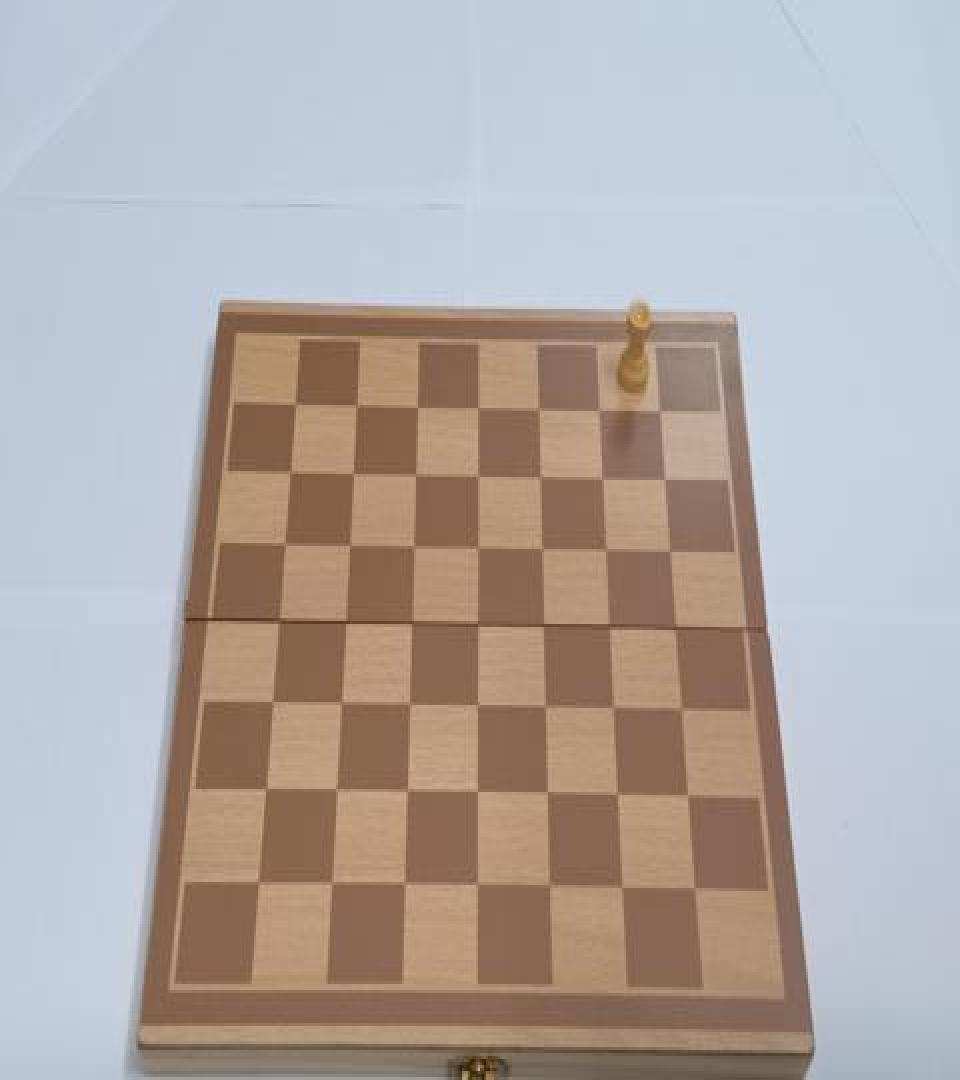xcorner: (407, 460, 425, 488), (530, 394, 548, 422), (537, 694, 555, 722), (287, 390, 305, 417), (281, 459, 299, 486), (276, 531, 294, 558), (270, 609, 288, 636), (264, 690, 282, 717), (257, 777, 275, 804), (250, 870, 268, 897), (344, 459, 362, 486), (340, 532, 358, 559), (336, 609, 354, 636), (328, 778, 346, 805), (405, 534, 423, 561), (403, 610, 421, 637), (401, 693, 419, 720), (398, 780, 416, 807), (396, 873, 414, 900), (469, 393, 487, 420), (469, 462, 487, 489), (469, 612, 487, 639), (469, 693, 487, 720), (469, 780, 487, 807), (469, 873, 487, 900), (541, 874, 559, 901), (590, 396, 608, 423), (594, 465, 612, 492), (597, 537, 615, 564), (605, 696, 623, 723), (609, 783, 627, 810), (613, 874, 631, 901), (651, 397, 669, 424), (656, 465, 674, 492), (661, 538, 679, 565), (666, 615, 684, 642), (672, 696, 690, 723), (679, 783, 697, 810), (685, 876, 703, 903), (348, 392, 366, 418), (332, 692, 350, 718), (323, 872, 341, 898), (408, 392, 426, 418), (469, 536, 487, 562), (531, 464, 549, 490), (533, 536, 551, 562), (535, 614, 553, 640), (539, 782, 557, 808), (601, 614, 619, 640)
